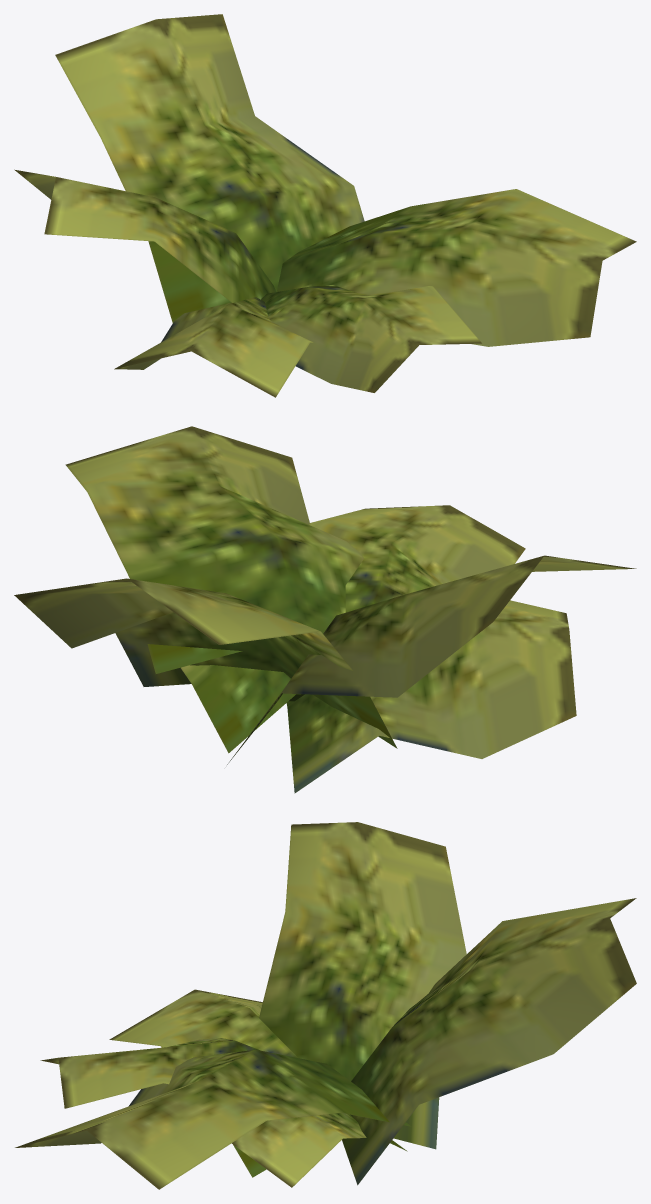
File: S_Plant_Yellow020.FBX
The picture shows the model from 3 angles, top to bottom: view 1: azimuth 30°, elevation 25°; view 2: azimuth 150°, elevation 25°; view 3: azimuth 270°, elevation 25°; orthographic projection. The views are drawn at different scales.
Parts seen in each view (by area): view 1: S_Plant_Yellow020; view 2: S_Plant_Yellow020; view 3: S_Plant_Yellow020.
Part boxes in pixels (box(x1,y1,x2,y2)): S_Plant_Yellow020: box(14, 14, 636, 397); S_Plant_Yellow020: box(14, 426, 636, 793); S_Plant_Yellow020: box(15, 822, 636, 1189).
Bounding box in the file's own units: 421 × 410 × 178.
